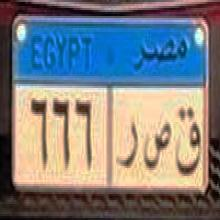6: (73, 98, 96, 170), (30, 97, 50, 164), (51, 102, 70, 164)
qaaf: (173, 101, 204, 181)
raa: (116, 118, 139, 174)
saad: (140, 116, 170, 170)
